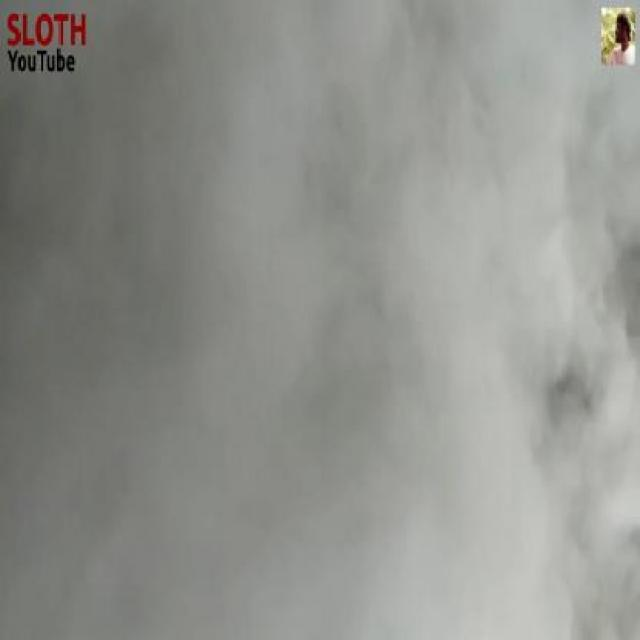smoke: (132, 81, 608, 582)
